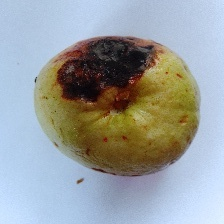guava: (8, 14, 186, 200)
